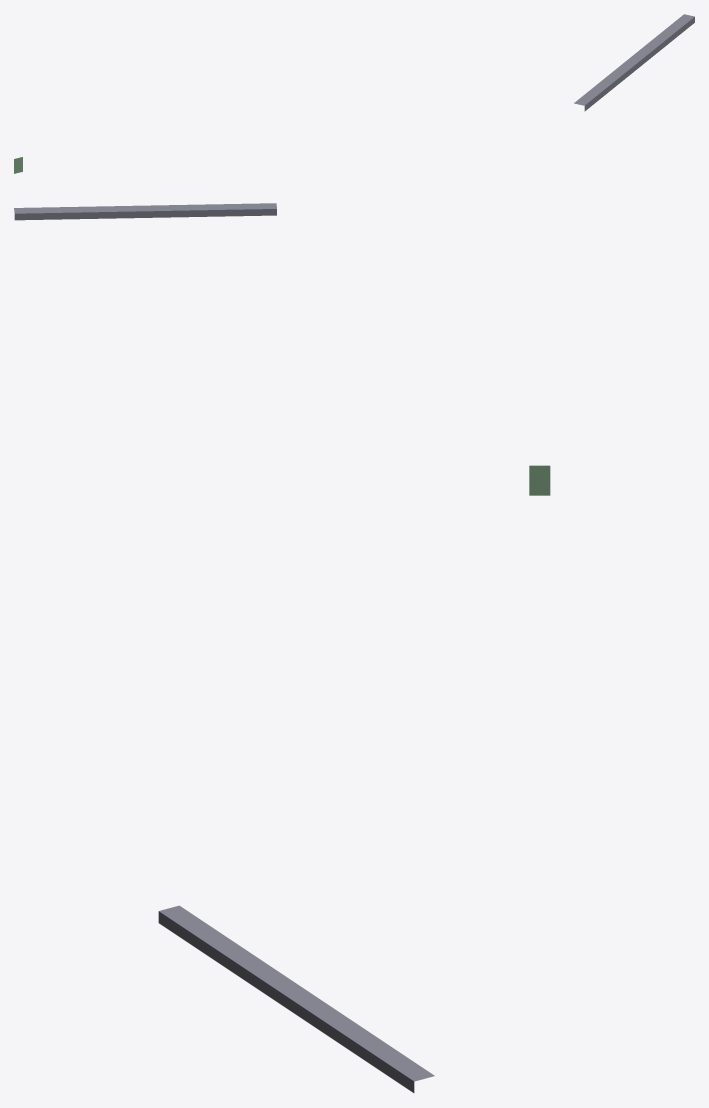
3 renders of one model, top to bottom at view 1: azimuth 30°, elevation 25°; view 2: azimuth 150°, elevation 25°; view 3: azimuth 270°, elevation 25°, orthographic. The views are drawn at different scales.
Bounding box in the file's own units: 214 × 6.91 × 55.86.
